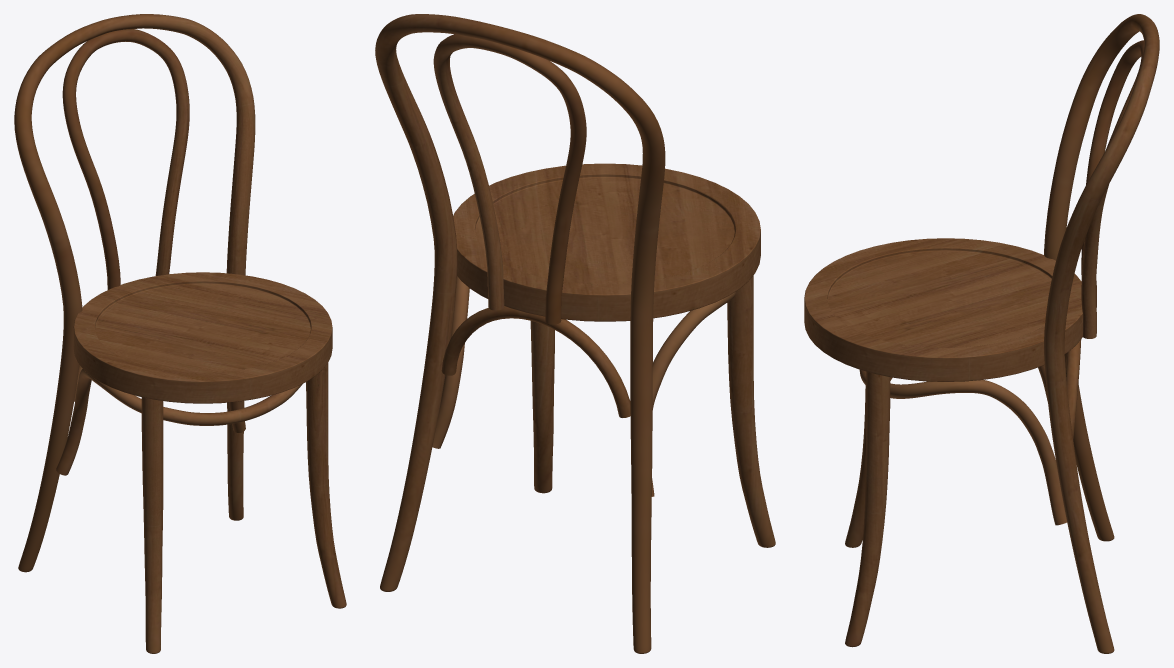
File: chair_46_03.001.fbx
3 views of the same model, side by side, from view 1: azimuth 30°, elevation 25°; view 2: azimuth 150°, elevation 25°; view 3: azimuth 270°, elevation 25° (orthographic). The views are drawn at different scales.
Parts seen in each view (by area): view 1: chair_46_03.001; view 2: chair_46_03.001; view 3: chair_46_03.001.
Boxes of the visible parts, box(x1,y1,x2,y2) form: chair_46_03.001: box(14, 14, 346, 653); chair_46_03.001: box(375, 14, 775, 653); chair_46_03.001: box(804, 14, 1159, 653).
Bounding box in the file's own units: 42.93 × 89.93 × 51.97.
1 material, 1 textured.
